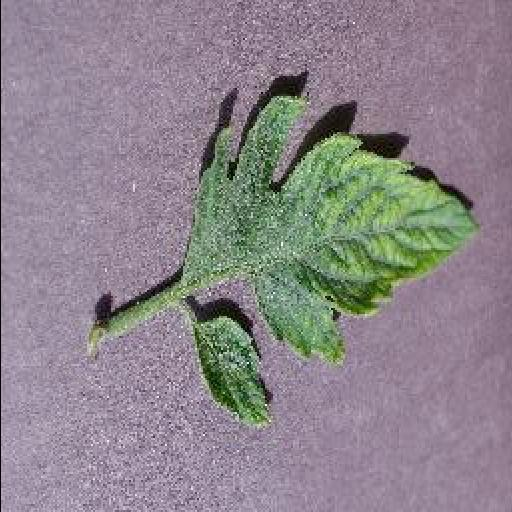disease_tomato: (180, 96, 478, 426)
